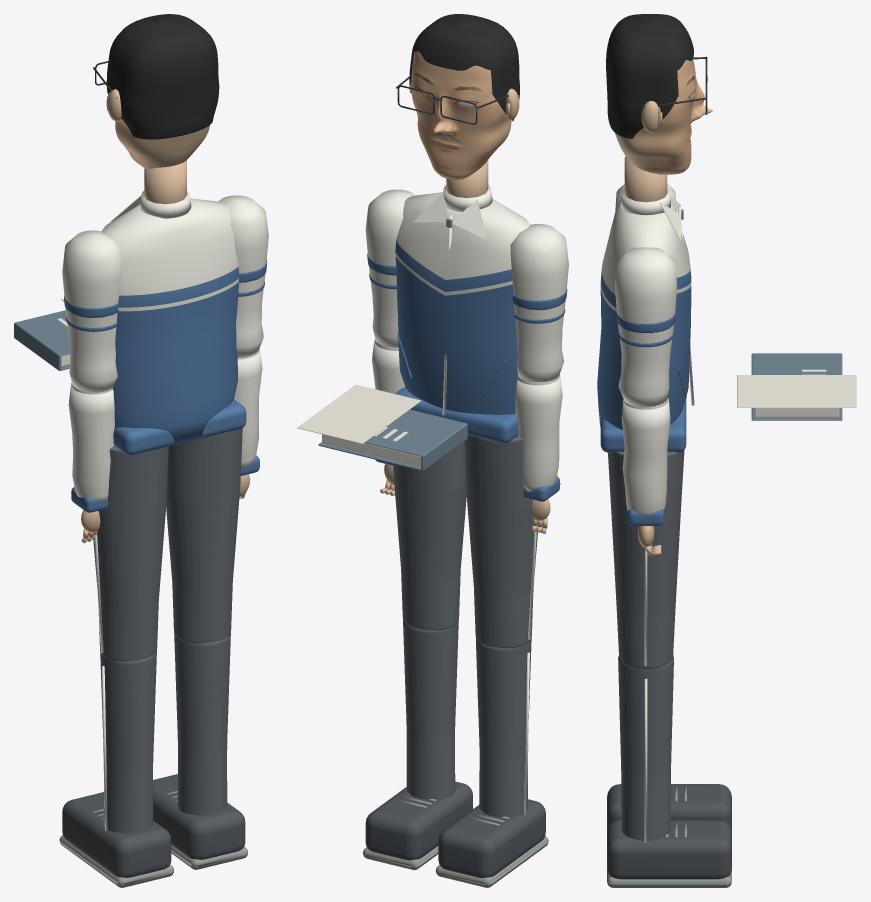
The model's file is tiku_boy1_uniform.glb.
3 views of the same model, side by side, from view 1: azimuth 30°, elevation 25°; view 2: azimuth 150°, elevation 25°; view 3: azimuth 270°, elevation 25° (orthographic).
Parts seen in each view (by area): view 1: PocketWelt, TrouserThigh.001, TrouserThigh, FittedBuzzcut, KneeFold.001, KneeFold, Sleeve, Shoe, ElbowSeam, Sleeve.001, Shoe.001, IdentityHead (+9 smaller); view 2: PocketWelt, TrouserThigh, TrouserThigh.001, KneeFold.001, IdentityHead, KneeFold, Sleeve, FittedBuzzcut, Shoe, Shoe.001, ElbowSeam, Sleeve.001 (+12 smaller); view 3: TrouserThigh.001, PocketWelt, KneeFold.001, Sleeve.001, FittedBuzzcut, Shoe.001, ElbowSeam.001, IdentityHead, TurningPage, Shoe, TextbookCover, Neck (+5 smaller).
Part boxes in pixels (<box>): PocketWelt: <box>101,198,246,455</box>; TrouserThigh.001: <box>166,428,242,643</box>; TrouserThigh: <box>93,445,168,661</box>; FittedBuzzcut: <box>106,14,219,139</box>; KneeFold.001: <box>174,633,230,815</box>; KneeFold: <box>100,651,156,833</box>; Sleeve: <box>62,230,121,392</box>; Shoe: <box>62,792,171,877</box>; ElbowSeam: <box>68,383,114,502</box>; Sleeve.001: <box>218,195,268,357</box>; Shoe.001: <box>153,774,245,859</box>; IdentityHead: <box>115,118,209,168</box>; PocketWelt: <box>395,192,529,443</box>; TrouserThigh: <box>464,435,537,647</box>; TrouserThigh.001: <box>393,441,466,630</box>; KneeFold.001: <box>403,620,458,799</box>; IdentityHead: <box>411,51,511,179</box>; KneeFold: <box>476,638,531,817</box>; Sleeve: <box>510,224,568,382</box>; FittedBuzzcut: <box>409,14,519,121</box>; Shoe: <box>438,799,545,877</box>; Shoe.001: <box>365,781,472,860</box>; ElbowSeam: <box>515,374,562,491</box>; Sleeve.001: <box>365,189,415,347</box>; TrouserThigh.001: <box>608,450,684,668</box>; PocketWelt: <box>597,200,691,452</box>; KneeFold.001: <box>618,655,673,840</box>; Sleeve.001: <box>615,247,677,407</box>; FittedBuzzcut: <box>606,14,693,138</box>; Shoe.001: <box>607,820,731,879</box>; ElbowSeam.001: <box>621,397,670,515</box>; IdentityHead: <box>615,58,712,174</box>; TurningPage: <box>737,375,856,407</box>; Shoe: <box>607,784,731,832</box>; TextbookCover: <box>751,353,842,420</box>; Neck: <box>624,156,667,202</box>.
Size of the model in its own units: 0.44 by 1.78 by 0.499.
Materials: 14 (1 with a texture image).
